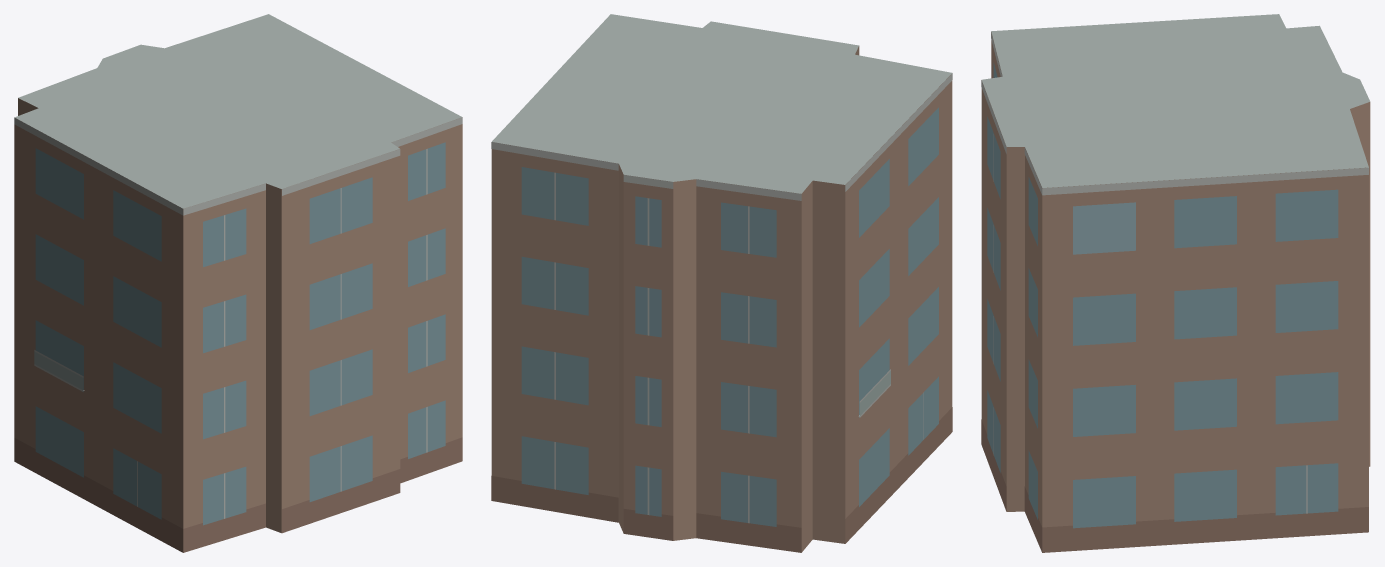
File: survey-upis-32626565.glb
The picture shows the model from 3 angles, left to right: view 1: azimuth 30°, elevation 25°; view 2: azimuth 150°, elevation 25°; view 3: azimuth 270°, elevation 25°; orthographic projection. The views are drawn at different scales.
Visible parts, largest first — view 1: survey-upis-32626565.tmp; view 2: survey-upis-32626565.tmp; view 3: survey-upis-32626565.tmp.
Part boxes in pixels (x1=…): survey-upis-32626565.tmp: x1=14, y1=14, x2=462, y2=552; survey-upis-32626565.tmp: x1=491, y1=14, x2=952, y2=552; survey-upis-32626565.tmp: x1=981, y1=14, x2=1370, y2=552.
Size of the model in its own units: 12.49 by 12.2 by 11.8.
